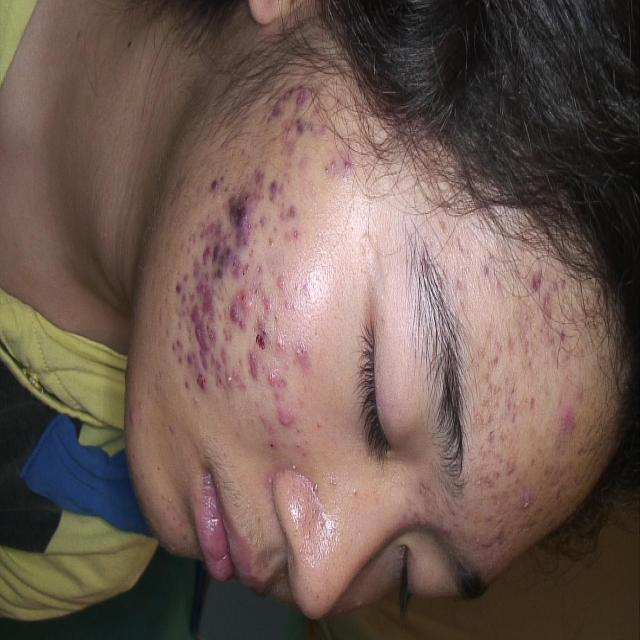acne: (522, 253, 548, 299), (254, 410, 277, 458), (209, 239, 233, 284), (267, 364, 294, 403), (277, 401, 300, 445), (287, 334, 313, 372), (539, 287, 564, 326), (291, 78, 314, 116), (264, 97, 287, 133), (229, 189, 251, 226), (206, 209, 225, 251), (200, 281, 217, 326), (341, 147, 361, 185), (489, 428, 512, 460), (224, 368, 247, 400), (503, 384, 523, 418), (287, 220, 308, 250), (204, 318, 223, 351), (196, 369, 218, 397), (186, 251, 201, 292), (125, 401, 145, 431), (324, 154, 341, 189), (168, 334, 186, 367), (273, 270, 292, 301), (517, 484, 535, 516), (216, 346, 238, 372), (255, 286, 277, 311), (242, 357, 270, 376), (201, 166, 219, 195), (180, 368, 194, 404), (288, 112, 304, 143), (231, 253, 248, 282), (226, 297, 241, 328), (272, 323, 283, 365), (170, 282, 190, 305), (250, 164, 268, 189), (186, 294, 204, 319), (239, 284, 255, 312), (233, 226, 252, 249), (249, 311, 267, 334), (572, 405, 586, 434), (222, 328, 238, 353), (191, 317, 201, 353), (194, 351, 212, 369), (505, 457, 518, 480), (266, 178, 281, 197), (187, 349, 200, 366), (277, 76, 285, 99), (203, 241, 210, 264), (288, 207, 297, 218), (527, 428, 529, 432)
